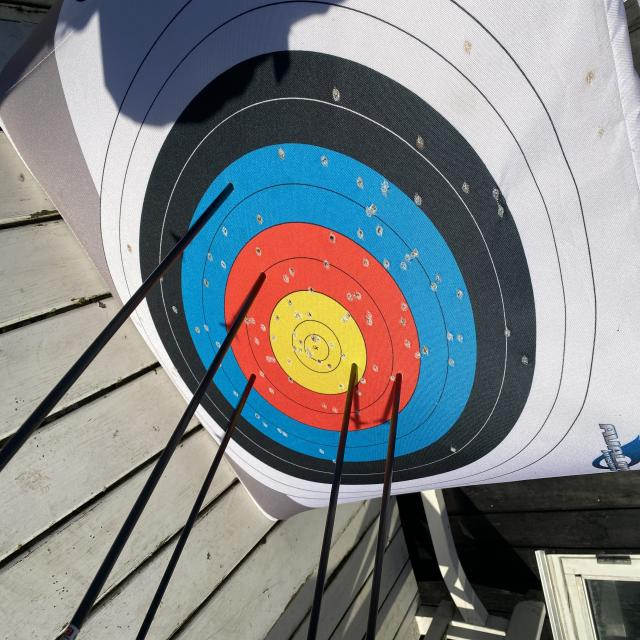Arrow_Blue: (207, 168, 244, 218)
Arrow_Red: (386, 363, 410, 406), (253, 260, 280, 298), (245, 360, 265, 394)
Arrow_Yellow: (335, 354, 378, 388)
